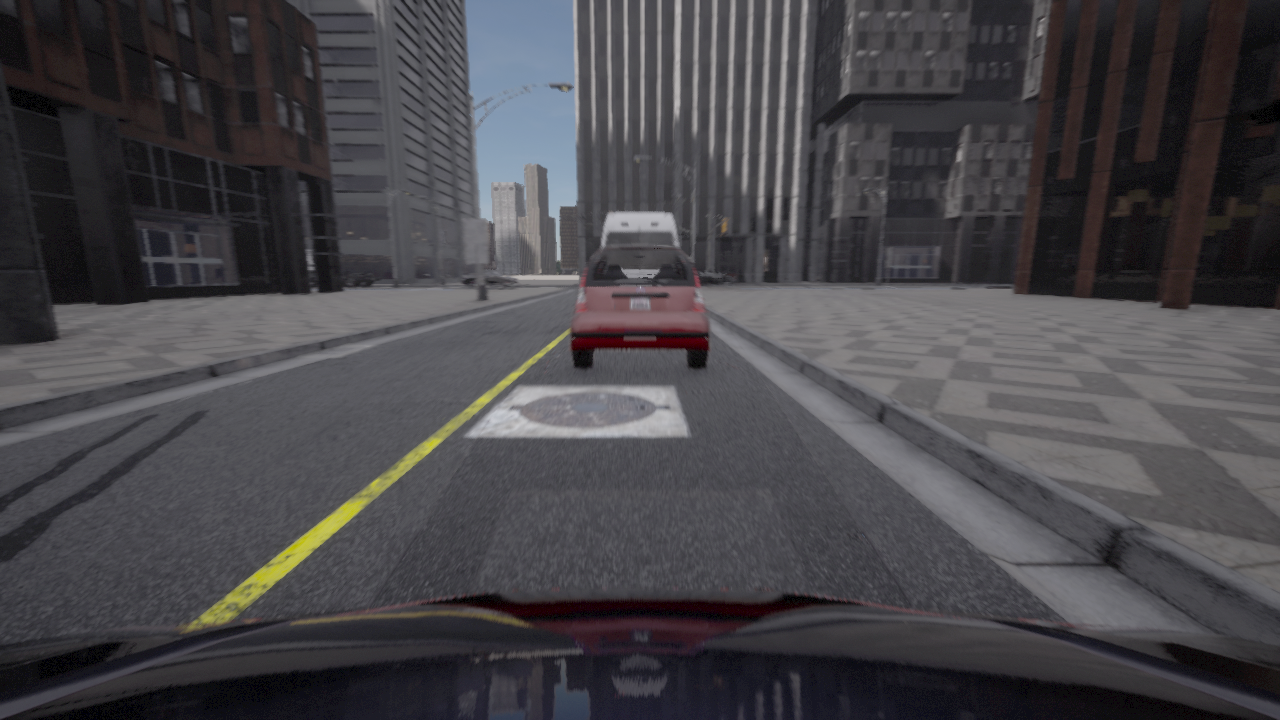cyclist: (0, 588, 1279, 719), (570, 244, 709, 368), (600, 213, 679, 249), (306, 249, 379, 286), (462, 271, 520, 286), (696, 270, 733, 286)
